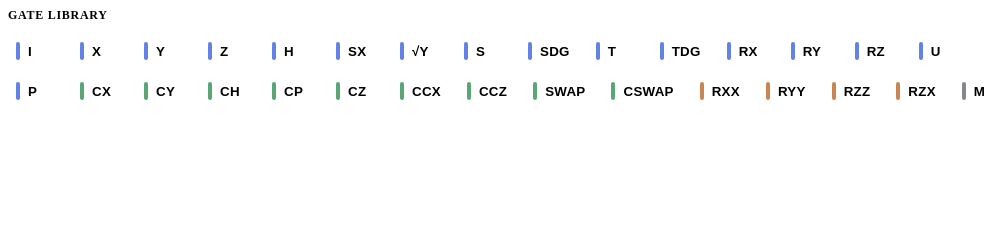
Scenario: GatePalette › does not restore a previously focused gate tooltip after hovering another gate
Focus the button with test id "gate-z". click: (228, 51)
box: top-left (200, 35), bottom-right (256, 67)
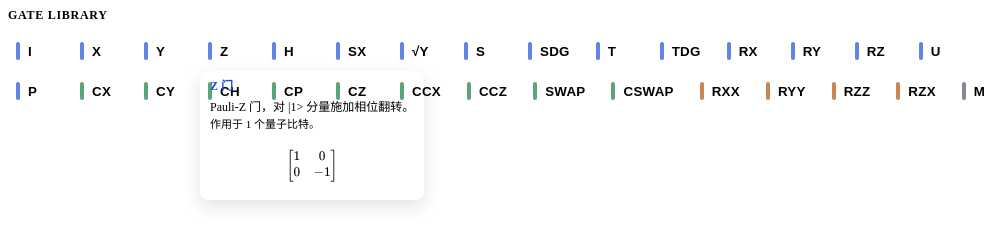
Check: the tooltip with test id "gate-matrix-tooltip-z" is shown, box top-left (200, 71), bottom-right (424, 200)
Hover over the button with test id "gate-x" at (100, 51), box top-left (72, 35), bottom-right (128, 67)
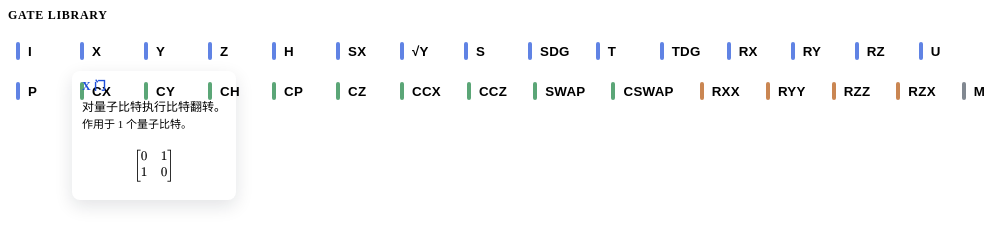
Check: the tooltip with test id "gate-matrix-tooltip-x" is shown, box top-left (72, 71), bottom-right (236, 200)
Check: the tooltip with test id "gate-matrix-tooltip-z" is gone
Move the pointer off the button with test id "gate-x", box top-left (72, 35), bottom-right (128, 67)
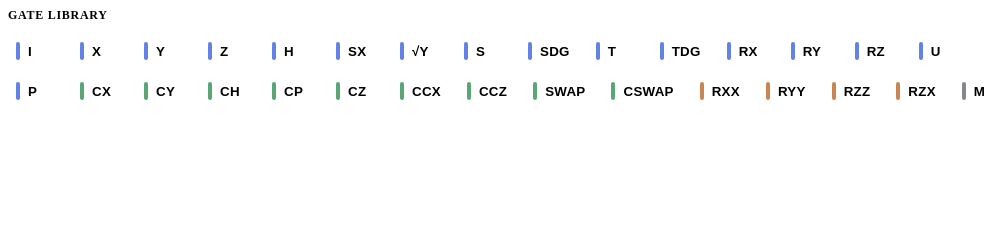
Check: the tooltip with test id "gate-matrix-tooltip-x" is gone
